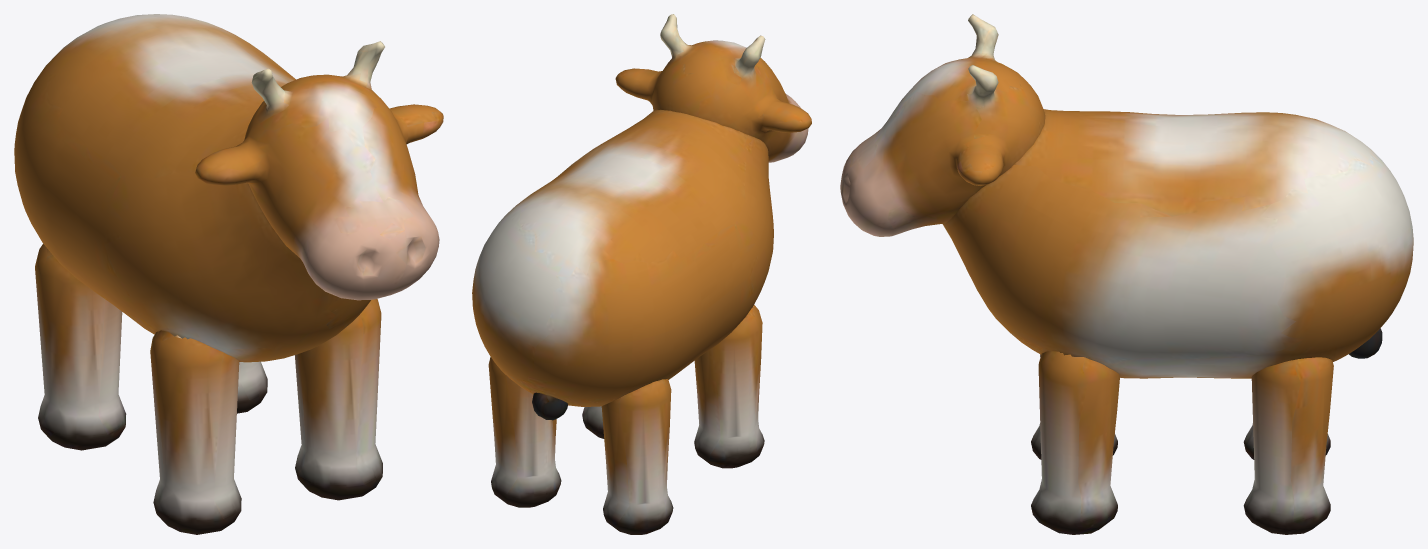
Rendered from animal_guernsey.glb.
The picture shows the model from 3 angles, left to right: view 1: azimuth 30°, elevation 25°; view 2: azimuth 150°, elevation 25°; view 3: azimuth 270°, elevation 25°; orthographic projection. The views are drawn at different scales.
Visible parts, largest first — view 1: animal_guernsey, head, leg0, leg2, leg1, leg3; view 2: animal_guernsey, head, leg2, leg0, leg3, tail, leg1; view 3: animal_guernsey, head, leg1, leg3.
Part boxes in pixels (x1,y1,x2,y2): animal_guernsey: [14, 14, 370, 362]; head: [195, 41, 443, 300]; leg0: [150, 330, 241, 534]; leg2: [35, 243, 126, 450]; leg1: [295, 299, 382, 500]; leg3: [237, 361, 267, 413]; animal_guernsey: [472, 109, 773, 406]; head: [615, 14, 811, 162]; leg2: [601, 379, 673, 534]; leg0: [694, 305, 764, 468]; leg3: [488, 357, 561, 507]; tail: [532, 392, 567, 420]; leg1: [582, 406, 604, 438]; animal_guernsey: [942, 109, 1413, 378]; head: [840, 14, 1045, 236]; leg1: [1031, 351, 1119, 534]; leg3: [1243, 357, 1333, 534].
Bounding box in the file's own units: 0.3134 × 0.5708 × 0.6467.
Materials: 1 (1 with a texture image).
